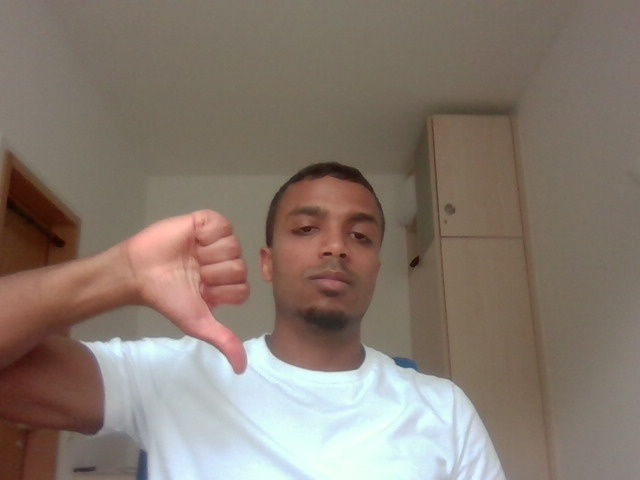no: (119, 179, 260, 401)
